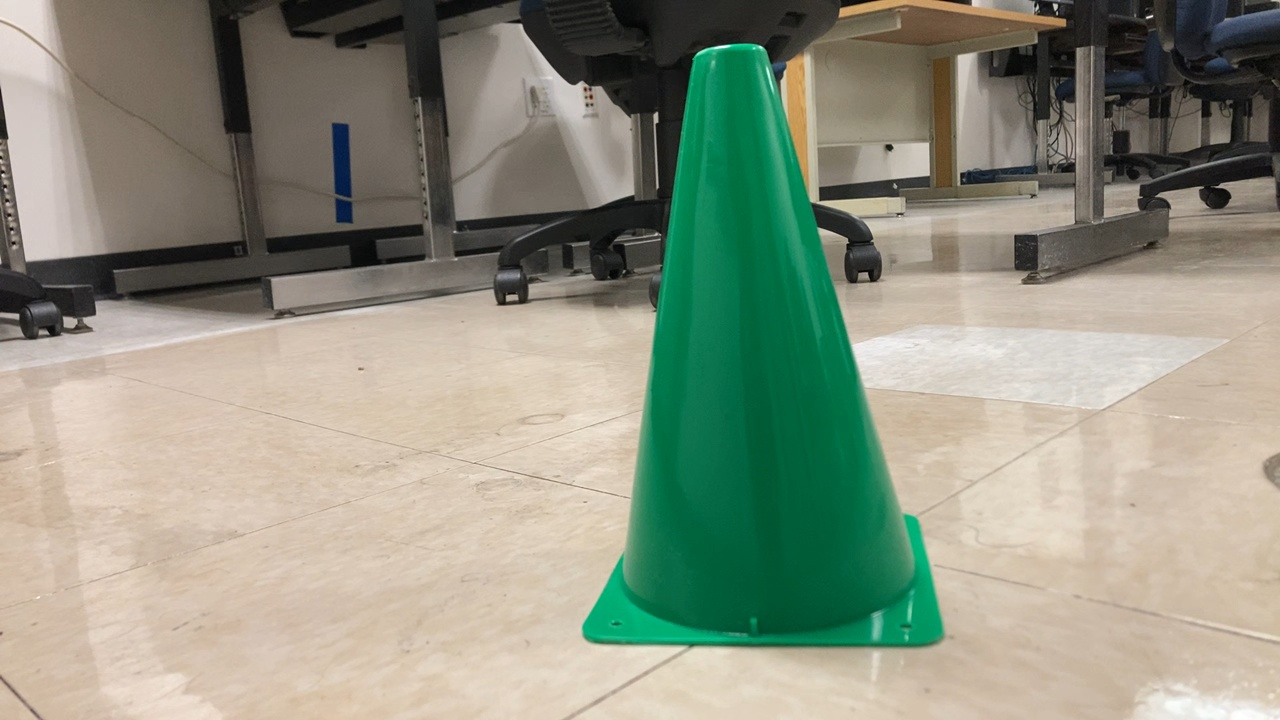green_cone: (576, 42, 948, 654)
